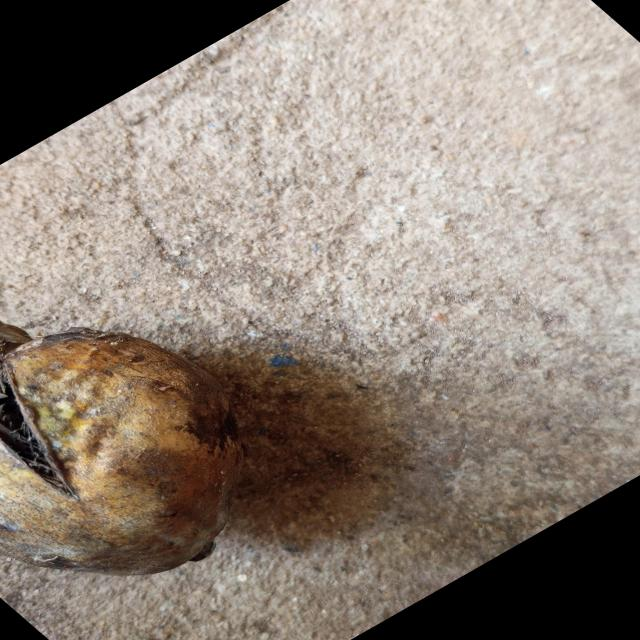damaged: (0, 323, 247, 577)
